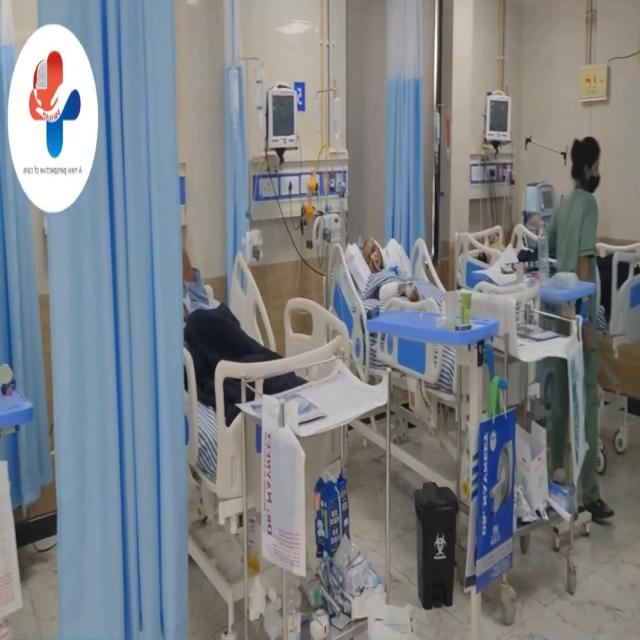Movement-Yes: (182, 219, 250, 371)
